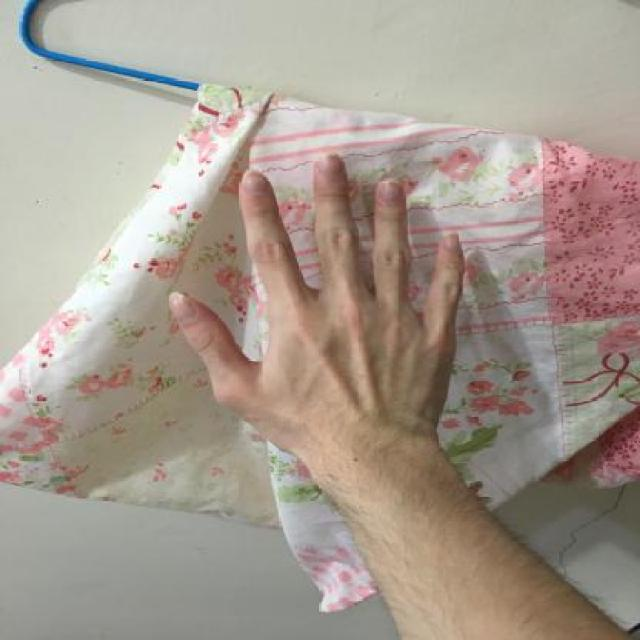no_glove: (158, 138, 468, 479)
